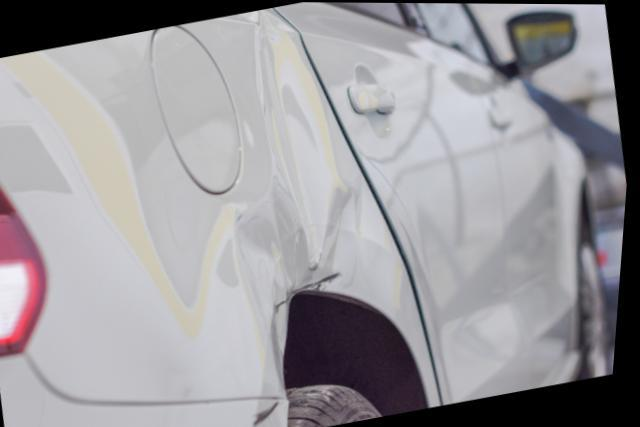dent: (241, 9, 366, 375)
